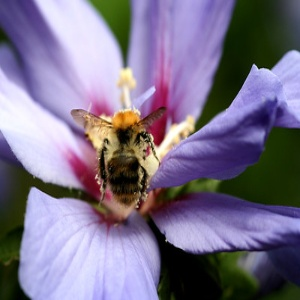bee: (71, 108, 153, 215)
